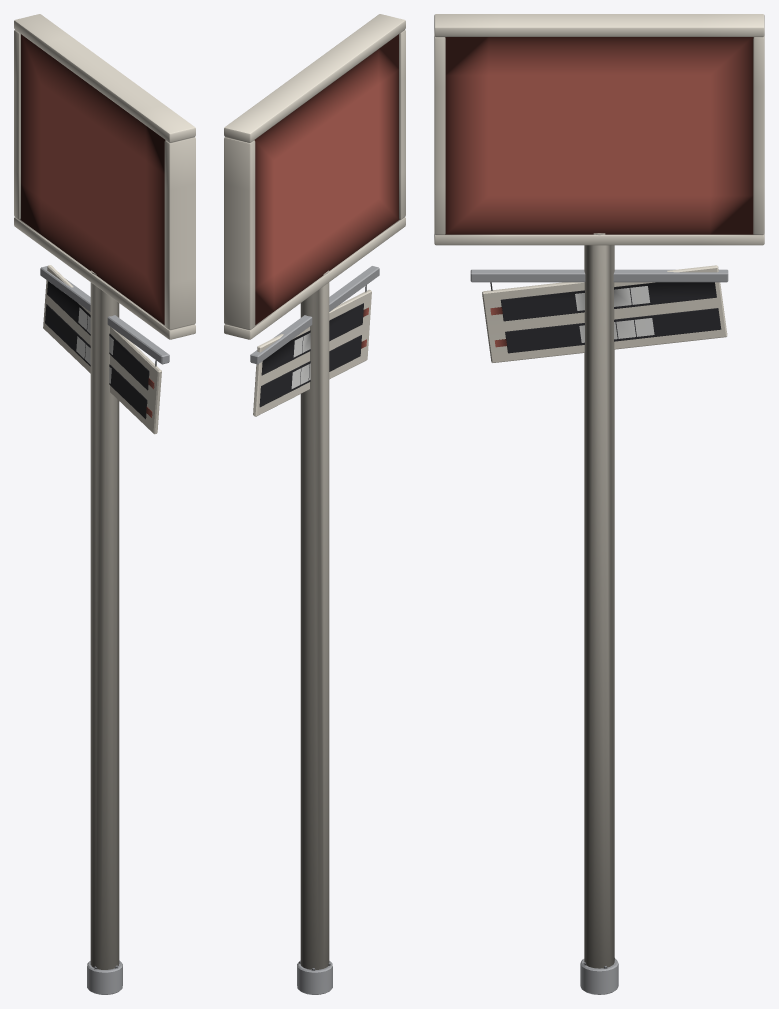
Rendered from signpole.glb.
3 views of the same model, side by side, from view 1: azimuth 30°, elevation 25°; view 2: azimuth 150°, elevation 25°; view 3: azimuth 270°, elevation 25° (orthographic). The views are drawn at different scales.
Visible parts, largest first — view 1: PART; view 2: PART; view 3: PART.
Part boxes in pixels (x1,y1,x2,y2): PART: (14, 14, 195, 994); PART: (224, 14, 405, 994); PART: (434, 14, 764, 994).
Size of the model in its own units: 0.3 by 8.4 by 2.6.
